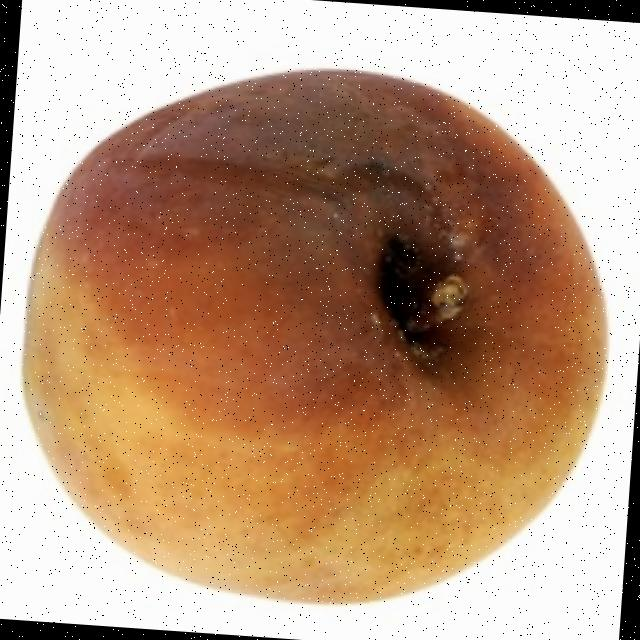Rotten: (0, 44, 630, 635)
